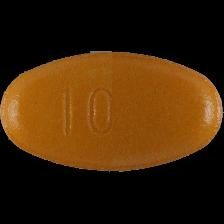59762-0104: (0, 0, 224, 224)
